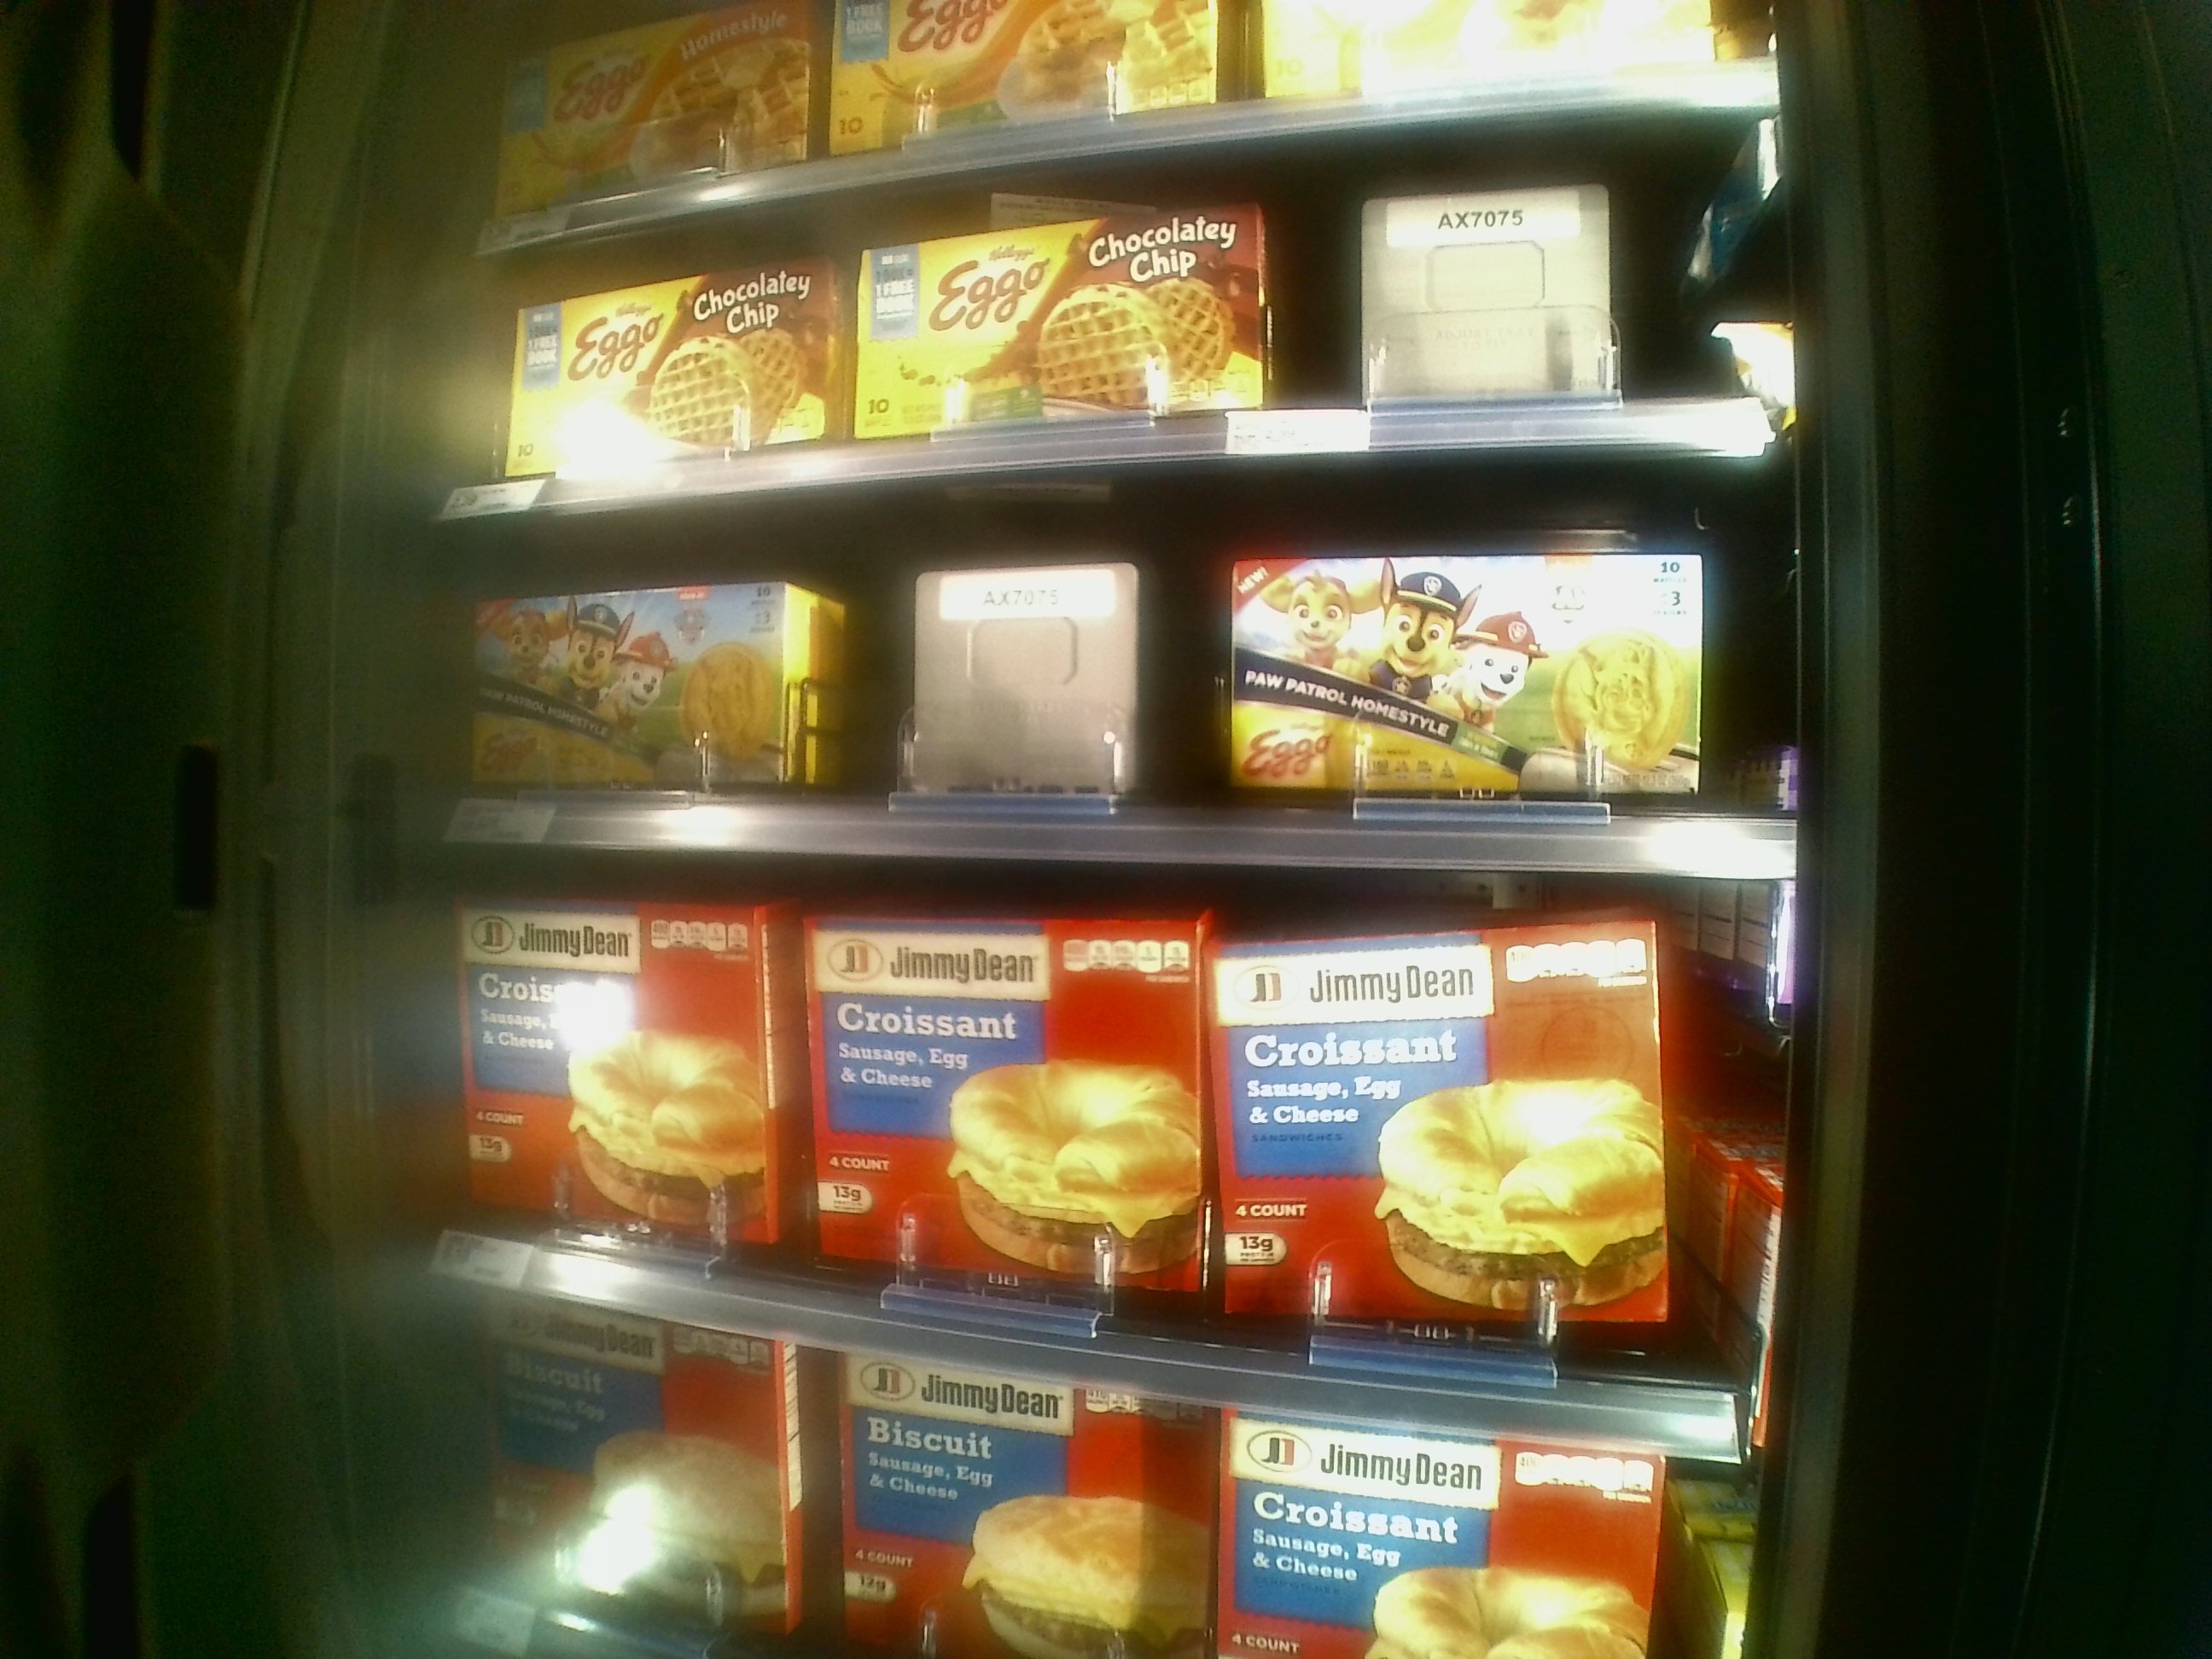shelf: (446, 814, 1771, 1457), (435, 441, 1789, 871)
